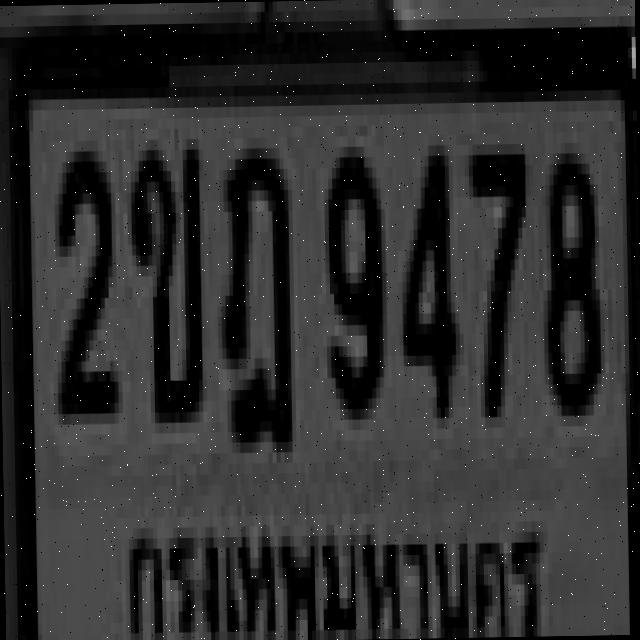11KhorKhai: (125, 138, 198, 412)
2: (49, 140, 114, 414)
23DorChaDa: (214, 136, 288, 442)
4: (395, 134, 452, 408)
7: (464, 144, 524, 406)
8: (536, 142, 597, 405)
9: (322, 136, 380, 410)
Bangkok: (112, 501, 554, 640)
